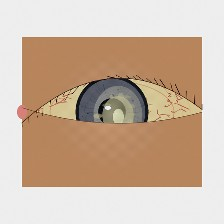corneal_ulcer: (87, 91, 149, 140)
